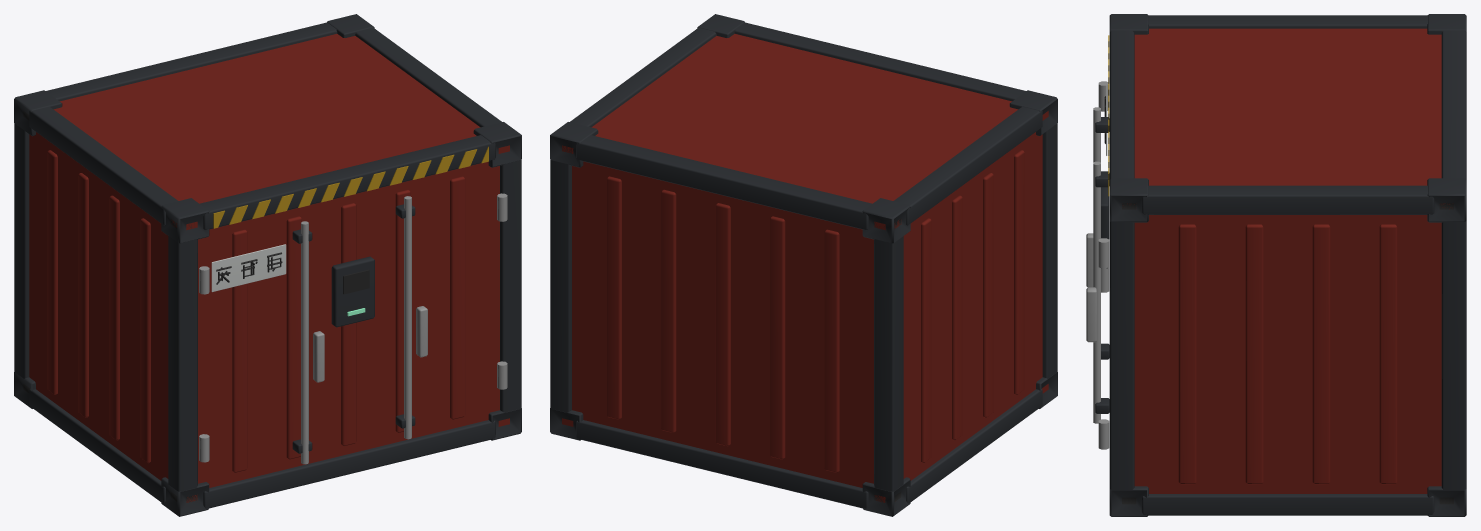
File: Crate_Cargo_Red.fbx
3 renders of one model, left to right at view 1: azimuth 30°, elevation 25°; view 2: azimuth 150°, elevation 25°; view 3: azimuth 270°, elevation 25°, orthographic. The views are drawn at different scales.
Parts seen in each view (by area): view 1: Crate_Cargo_Red_LOD0; view 2: Crate_Cargo_Red_LOD0; view 3: Crate_Cargo_Red_LOD0.
Part boxes in pixels (x1=…): Crate_Cargo_Red_LOD0: x1=14, y1=14, x2=521, y2=516; Crate_Cargo_Red_LOD0: x1=550, y1=14, x2=1057, y2=516; Crate_Cargo_Red_LOD0: x1=1086, y1=14, x2=1466, y2=516.
Size of what is drawn, in the model's own units: 1.2 by 1 by 1.06.
